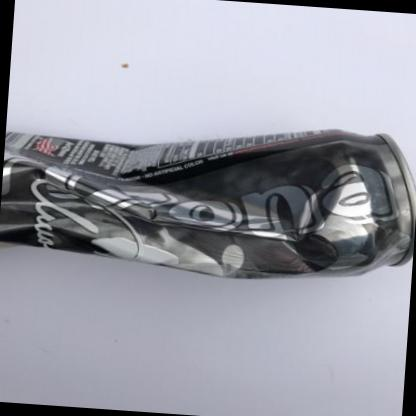Metal: (0, 130, 416, 279)
